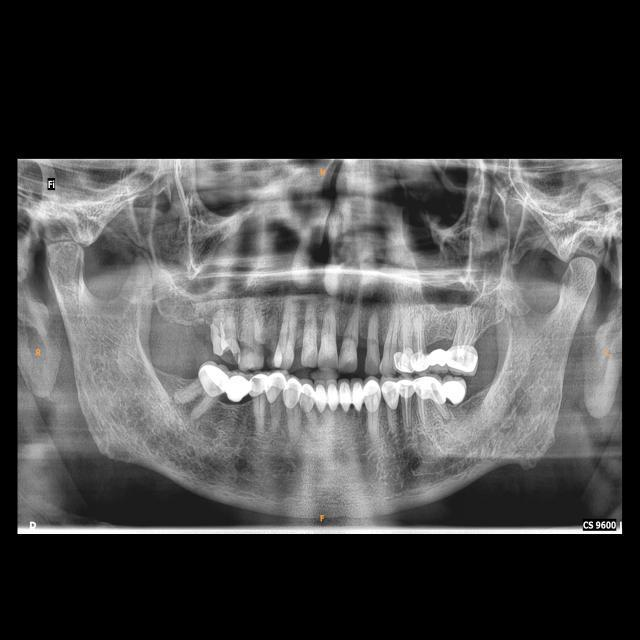dentin-curugu: (220, 347, 240, 367), (240, 337, 256, 361), (262, 339, 276, 361)
kanal-tedavisi: (453, 319, 477, 347), (412, 318, 425, 354), (417, 398, 425, 424), (403, 395, 409, 428)
kaplama: (195, 367, 228, 397), (447, 346, 477, 370), (391, 347, 417, 374), (416, 377, 446, 400), (285, 378, 304, 410), (438, 382, 468, 402), (382, 380, 401, 410), (266, 372, 284, 402), (299, 381, 315, 413), (363, 381, 380, 410), (250, 374, 271, 396), (314, 381, 328, 413), (400, 378, 418, 399), (326, 383, 339, 412), (414, 348, 429, 372), (340, 383, 353, 410), (353, 381, 363, 410)
kopru: (222, 371, 254, 412), (424, 342, 452, 374)
